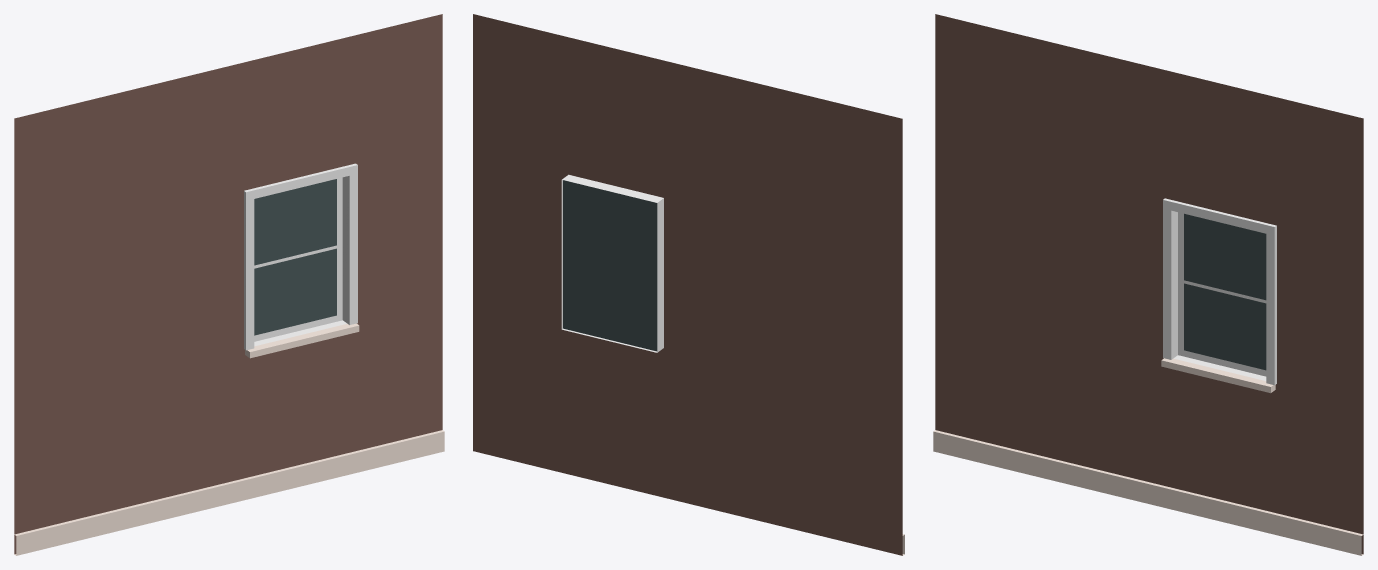
File: top-w2.fbx
3 views of the same model, side by side, from view 1: azimuth 30°, elevation 25°; view 2: azimuth 150°, elevation 25°; view 3: azimuth 330°, elevation 25° (orthographic).
Visible parts, largest first — view 1: a2000s2/800/top-w2; view 2: a2000s2/800/top-w2; view 3: a2000s2/800/top-w2.
Boxes of the visible parts, x1,y1,x2,y2 form: a2000s2/800/top-w2: [14, 14, 444, 555]; a2000s2/800/top-w2: [473, 14, 904, 555]; a2000s2/800/top-w2: [933, 14, 1363, 555].
Size of the model in its own units: 3.6 by 3.5 by 0.17.
